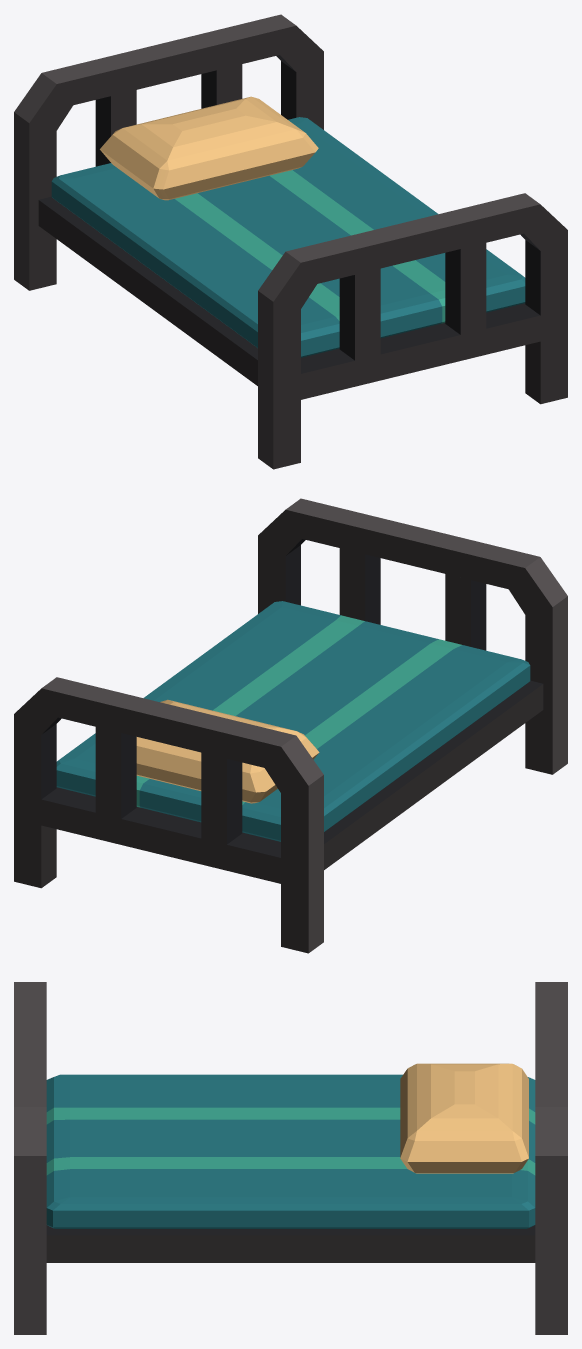
Rendered from bed_furniture.fbx.
3 renders of one model, top to bottom at view 1: azimuth 30°, elevation 25°; view 2: azimuth 150°, elevation 25°; view 3: azimuth 270°, elevation 25°, orthographic. The views are drawn at different scales.
Visible parts, largest first — view 1: bed_furniture; view 2: bed_furniture; view 3: bed_furniture.
Part boxes in pixels (x1=…): bed_furniture: x1=14, y1=14, x2=567, y2=469; bed_furniture: x1=14, y1=498, x2=567, y2=953; bed_furniture: x1=14, y1=982, x2=567, y2=1334.
Size of the model in its own units: 56.98 by 36.97 by 86.9.
